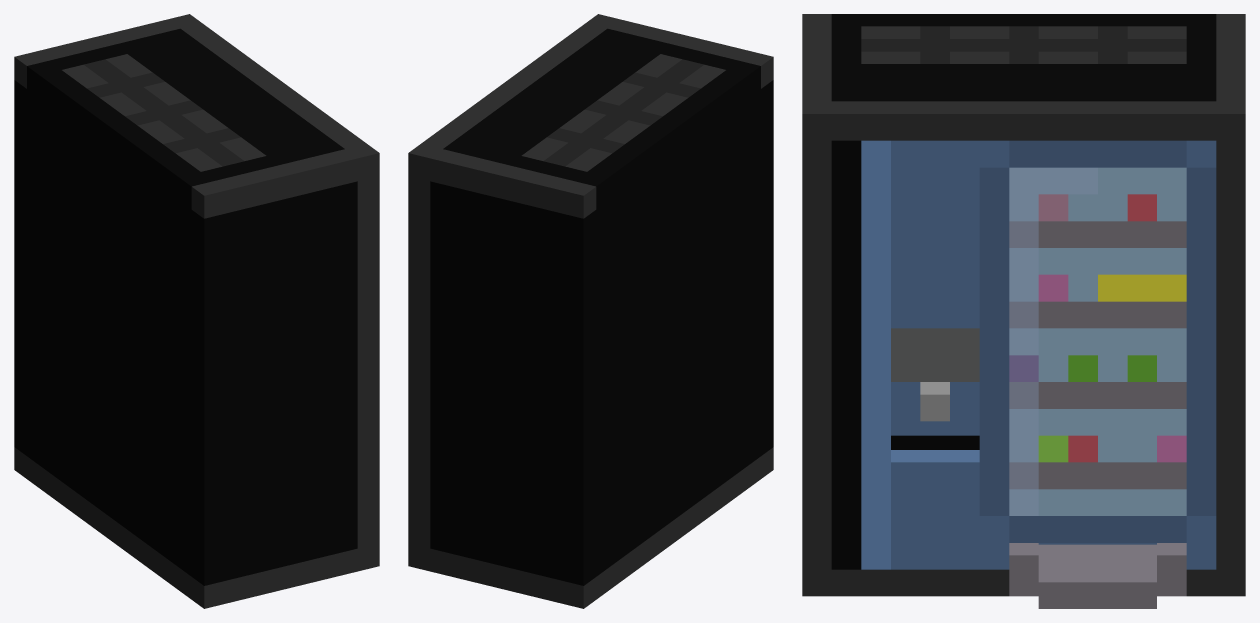
Rendered from vending-machine.glb.
The picture shows the model from 3 angles, left to right: view 1: azimuth 30°, elevation 25°; view 2: azimuth 150°, elevation 25°; view 3: azimuth 270°, elevation 25°; orthographic projection. The views are drawn at different scales.
Parts seen in each view (by area): view 1: Layer.1; view 2: Layer.1; view 3: Layer.1.
Part boxes in pixels (x1,y1,x2,y2): Layer.1: (14, 14, 379, 608); Layer.1: (408, 14, 773, 608); Layer.1: (802, 14, 1245, 608).
Bounding box in the file's own units: 9 × 18 × 15.
Materials: 1 (1 with a texture image).
